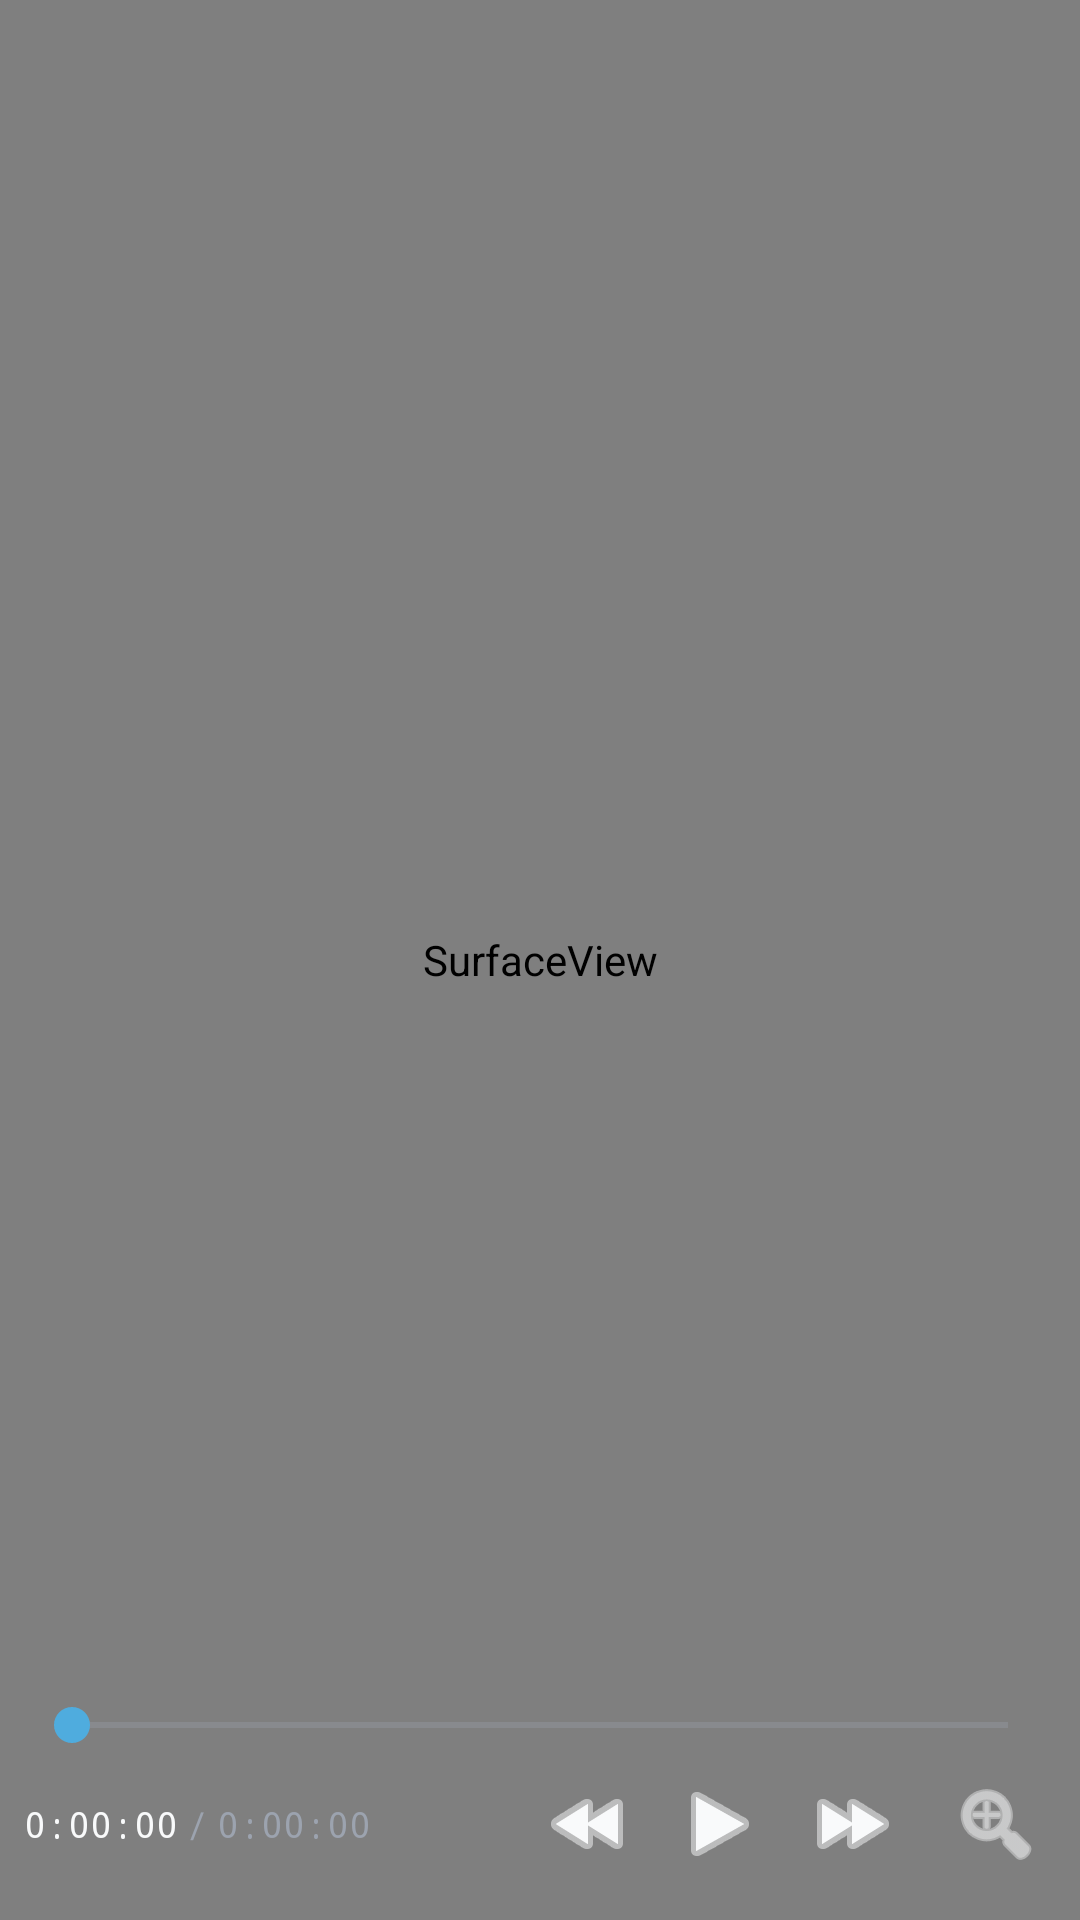

Point at icon controls on the screen. Image size 1080px x 1920px, points as (x=x, y=y).
Play: (x=720, y=1824)
Seek backward 10s: (x=587, y=1824)
Seek forward 10s: (x=853, y=1824)
